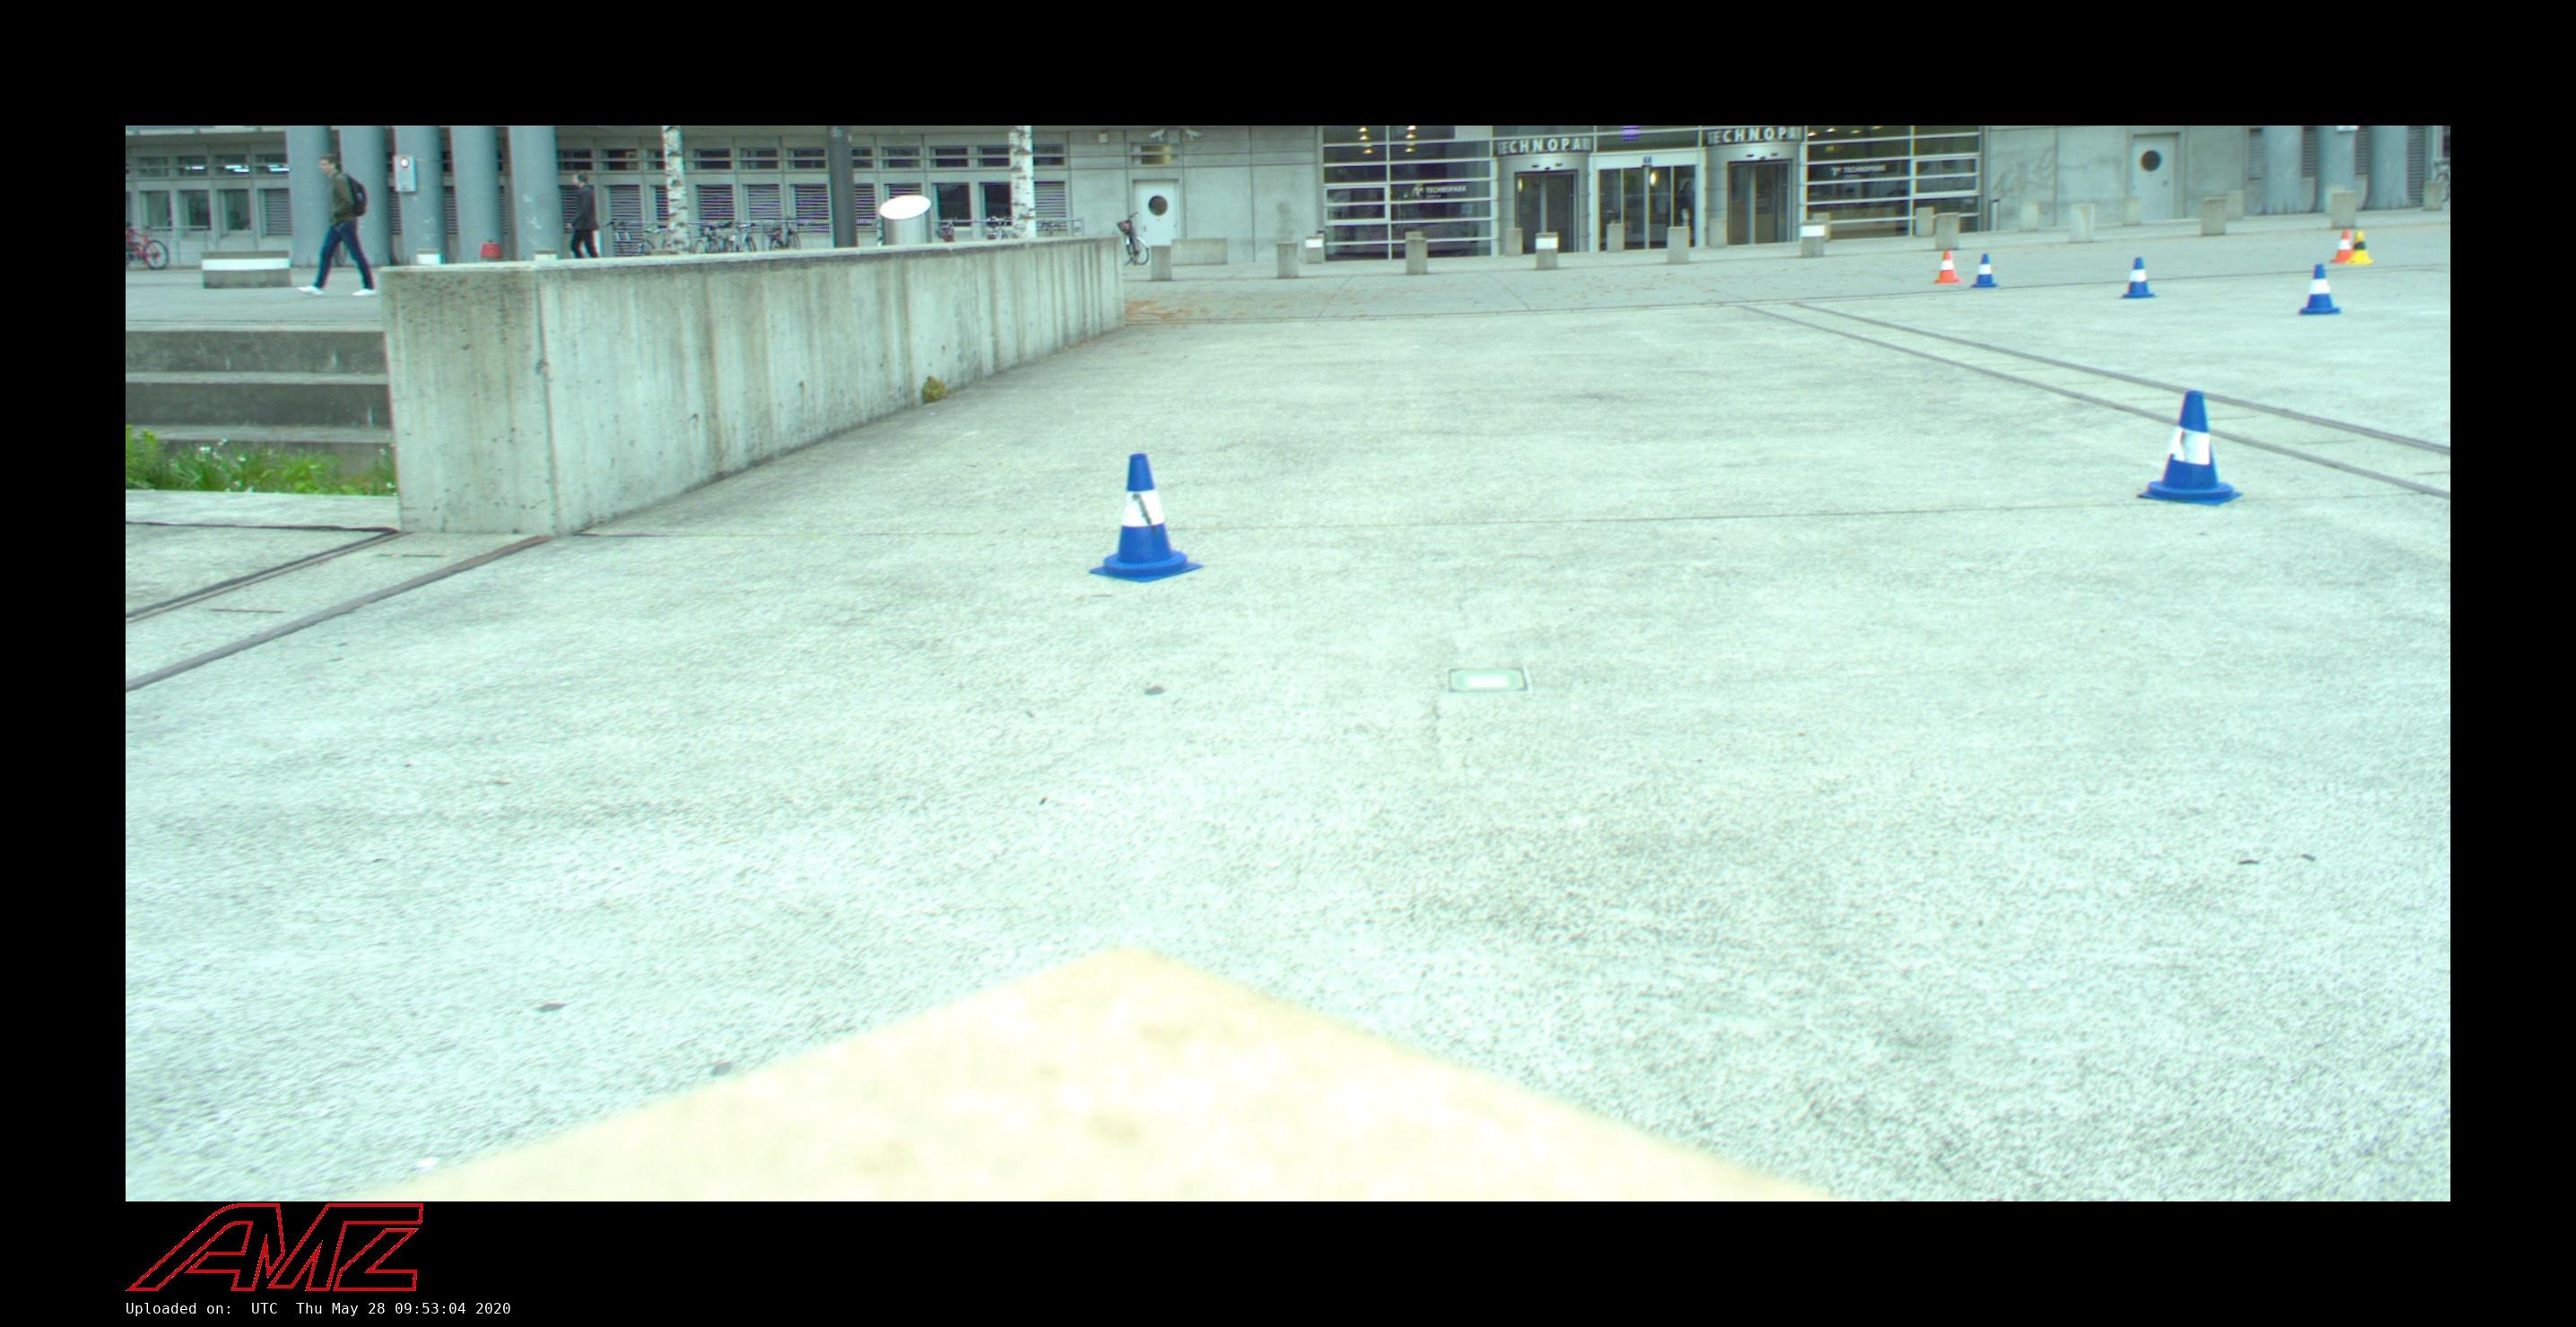blue_cone: (1088, 452, 1200, 582), (2138, 389, 2246, 504), (2297, 262, 2342, 315), (2119, 257, 2158, 300), (1968, 254, 2001, 289)
orange_cone: (1933, 251, 1963, 283), (2329, 229, 2358, 262)
yellow_cone: (2346, 230, 2373, 264)
